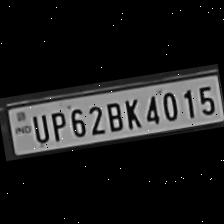0: (156, 88, 181, 122)
1: (178, 85, 197, 119)
2: (83, 100, 106, 136)
4: (139, 90, 163, 126)
5: (192, 81, 218, 118)
6: (64, 104, 88, 138)
B: (101, 97, 125, 132)
K: (120, 94, 144, 130)
P: (46, 106, 68, 141)
U: (28, 110, 51, 144)
